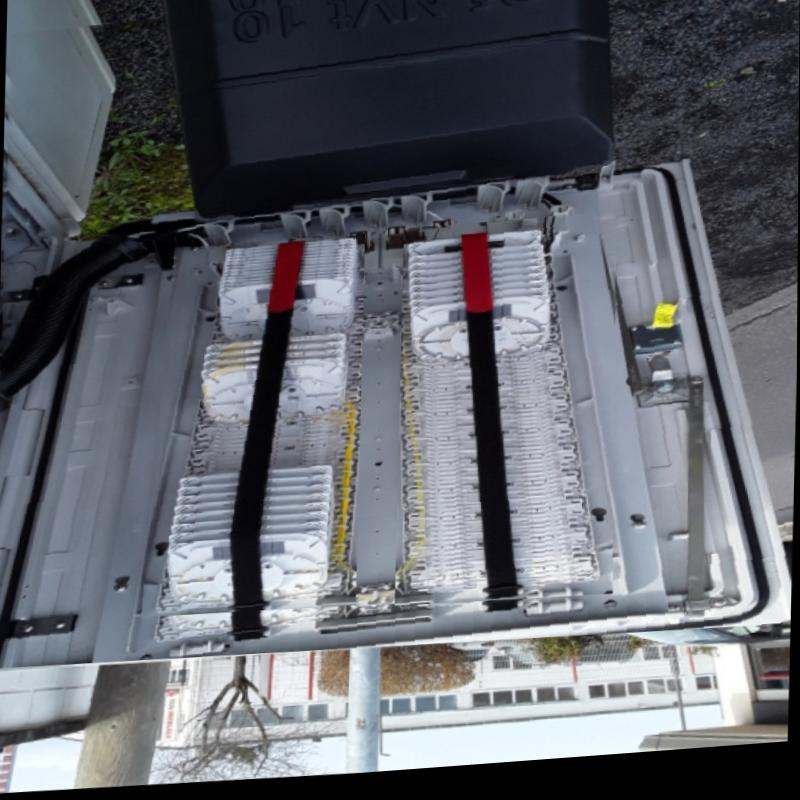NT-Gehause: (0, 19, 791, 668)
Spleiskassetten: (395, 223, 613, 612), (142, 239, 359, 619)
